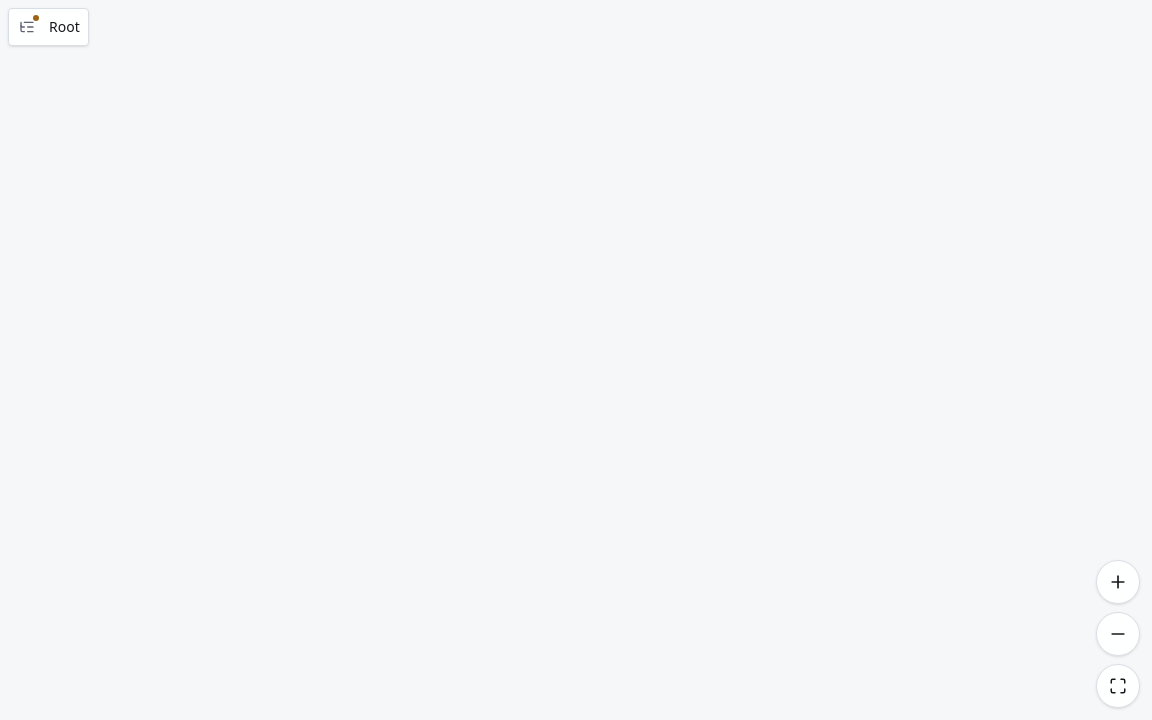
Scenario: KicanvasPane › live view › a sheet added to the files appears in the tree, marked
Step 1. Click the button named "Sheets (4, updated)" → (27,27), box left=13, top=11, right=41, bottom=43
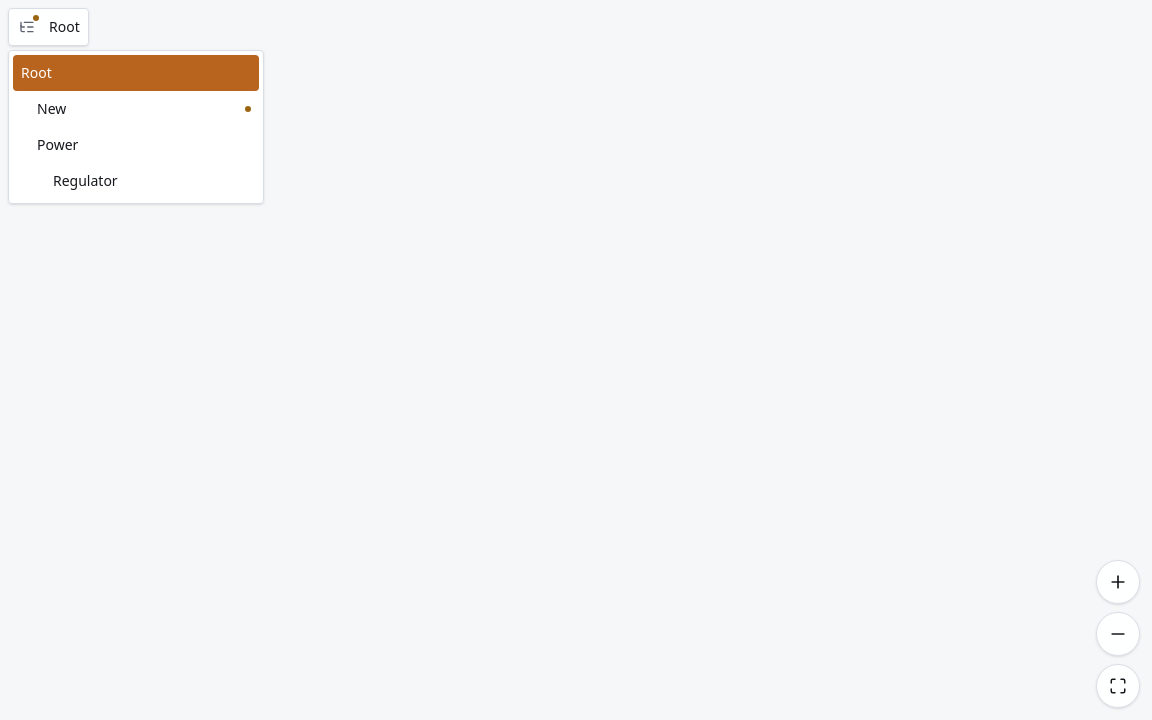
Result: the button named "New, updated" is shown at left=13, top=91, right=259, bottom=127
